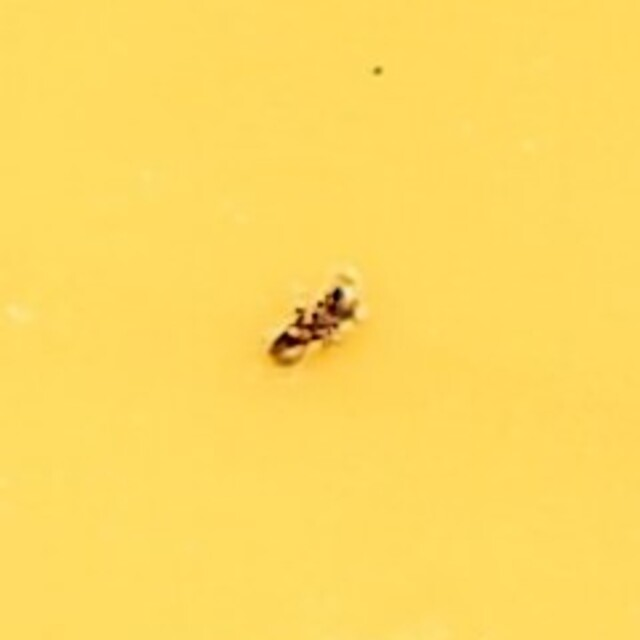Hymenoptera: (267, 263, 373, 377)
